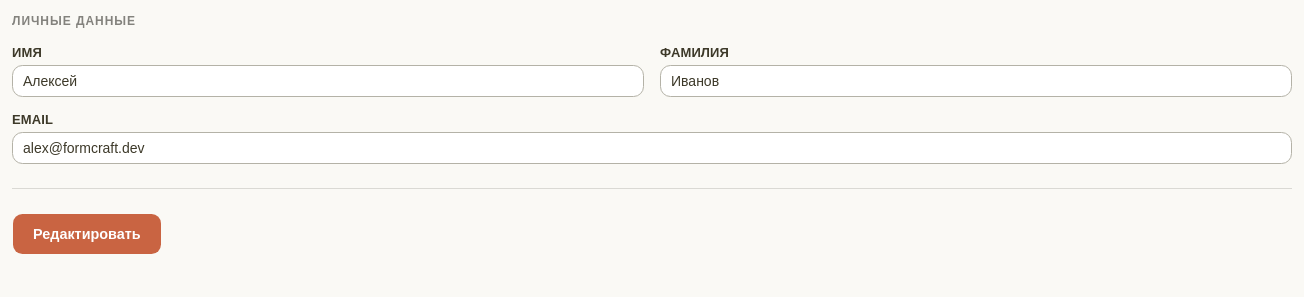
it: ProfileForm › пустое имя: видна ошибка и «Сохранить» неактивна
The image size is (1304, 297).
Click the button "Редактировать" at (87,234), box [12, 213, 162, 255]
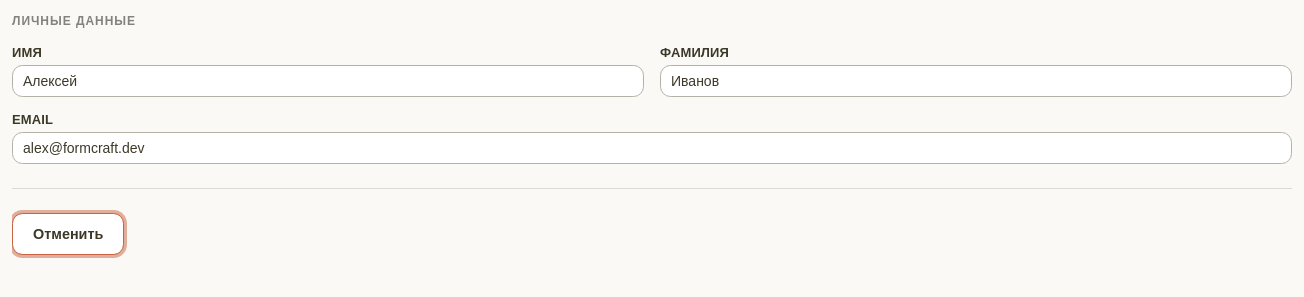
Clear the field labelled "Имя" at (328,81), box [12, 65, 644, 97]
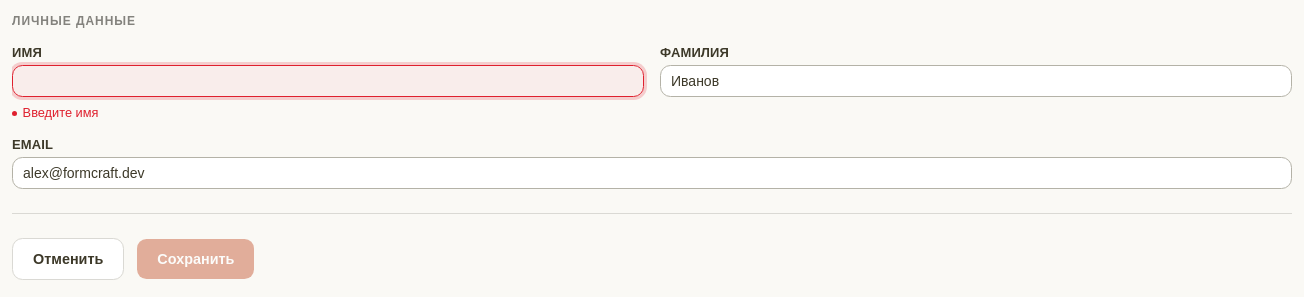
expect the text "Введите имя" is shown: met, box [23, 105, 98, 120]
expect the button "Сохранить" is disabled: met, box [136, 238, 255, 280]
